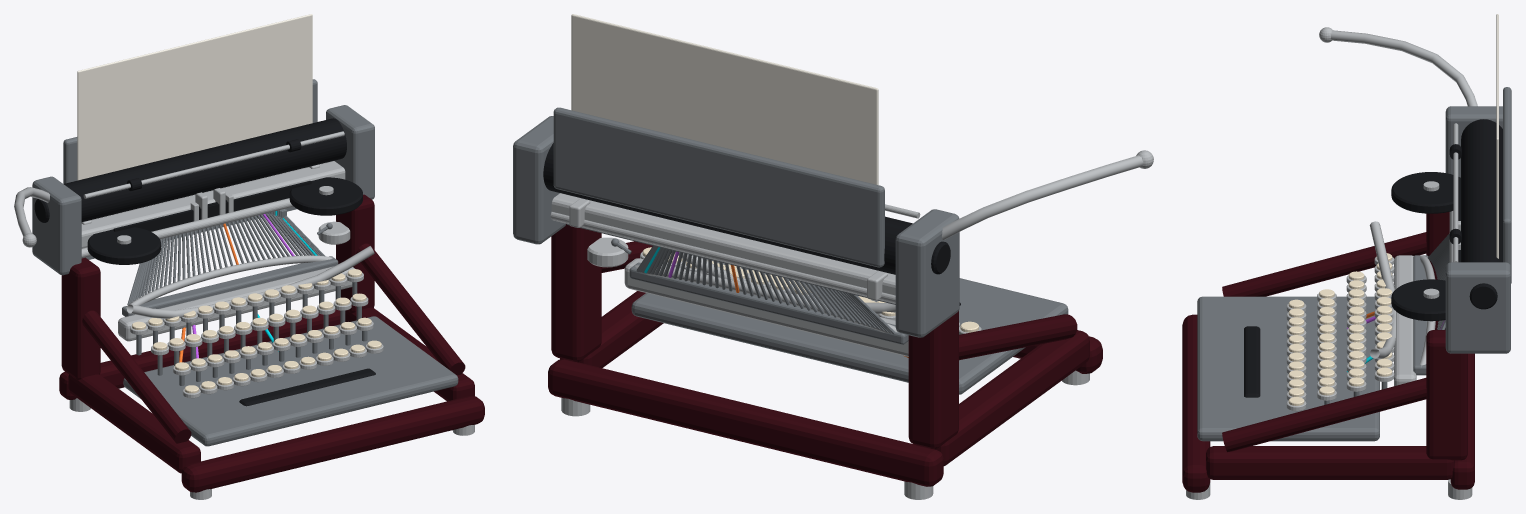
Rendered from typewriter-blockout.glb.
3 views of the same model, side by side, from view 1: azimuth 30°, elevation 25°; view 2: azimuth 150°, elevation 25°; view 3: azimuth 270°, elevation 25° (orthographic). The views are drawn at different scales.
Parts seen in each view (by area): view 1: PAPER_MESH, FRAME_KEYBED, PLATEN_MESH, FRAME_BASE_FRONT, FRAME_SIDE_LEFT, FRAME_CARRIAGE_TOWER_LEFT, CARRIAGE_END_LEFT, CARRIAGE_FRAME, FRAME_OPEN_RAIL_LEFT, FRAME_BASE_REAR, FRAME_OPEN_RAIL_RIGHT, FRAME_TYPEBASKET_SUPPORT (+16 smaller); view 2: PAPER_MESH, PAPER_GUIDE_REAR, FRAME_BASE_REAR, FRAME_KEYBED, CARRIAGE_FRAME, FRAME_SIDE_LEFT, CARRIAGE_END_LEFT, FRAME_CARRIAGE_TOWER_RIGHT, FRAME_CARRIAGE_TOWER_LEFT, CARRIAGE_END_RIGHT, FRAME_TYPEBASKET_SUPPORT, TYPEBASKET_COMB (+7 smaller); view 3: FRAME_KEYBED, FRAME_SIDE_RIGHT, PLATEN_MESH, CARRIAGE_END_RIGHT, FRAME_CARRIAGE_TOWER_RIGHT, FRAME_OPEN_RAIL_RIGHT, FRAME_OPEN_RAIL_LEFT, FRAME_BASE_FRONT, RIBBON_LEFT_SPOOL_MESH, FRAME_TYPEBASKET_SUPPORT, RIBBON_RIGHT_SPOOL_MESH, RETURN_LEVER_MESH (+11 smaller).
Part boxes in pixels (left/top/right/bottom): PAPER_MESH: left=77, top=14, right=312, bottom=180; FRAME_KEYBED: left=123, top=316, right=458, bottom=446; PLATEN_MESH: left=64, top=118, right=346, bottom=221; FRAME_BASE_FRONT: left=181, top=396, right=484, bottom=492; FRAME_SIDE_LEFT: left=68, top=374, right=200, bottom=473; FRAME_CARRIAGE_TOWER_LEFT: left=61, top=257, right=100, bottom=380; CARRIAGE_END_LEFT: left=32, top=176, right=81, bottom=275; CARRIAGE_FRAME: left=81, top=161, right=345, bottom=248; FRAME_OPEN_RAIL_LEFT: left=82, top=310, right=191, bottom=443; FRAME_BASE_REAR: left=59, top=309, right=340, bottom=399; FRAME_OPEN_RAIL_RIGHT: left=356, top=243, right=465, bottom=375; FRAME_TYPEBASKET_SUPPORT: left=118, top=266, right=354, bottom=341; PAPER_MESH: left=571, top=14, right=878, bottom=185; PAPER_GUIDE_REAR: left=553, top=107, right=884, bottom=267; FRAME_BASE_REAR: left=548, top=359, right=943, bottom=486; FRAME_KEYBED: left=631, top=258, right=1068, bottom=394; CARRIAGE_FRAME: left=551, top=193, right=895, bottom=303; FRAME_SIDE_LEFT: left=934, top=330, right=1089, bottom=465; CARRIAGE_END_LEFT: left=895, top=209, right=959, bottom=337; FRAME_CARRIAGE_TOWER_RIGHT: left=551, top=224, right=601, bottom=361; FRAME_CARRIAGE_TOWER_LEFT: left=908, top=311, right=958, bottom=448; CARRIAGE_END_RIGHT: left=513, top=116, right=565, bottom=244; FRAME_TYPEBASKET_SUPPORT: left=624, top=258, right=908, bottom=356; TYPEBASKET_COMB: left=629, top=262, right=908, bottom=344; FRAME_KEYBED: left=1197, top=296, right=1379, bottom=441; FRAME_SIDE_RIGHT: left=1206, top=446, right=1454, bottom=479; PLATEN_MESH: left=1461, top=119, right=1502, bottom=262; CARRIAGE_END_RIGHT: left=1445, top=262, right=1510, bottom=353; FRAME_CARRIAGE_TOWER_RIGHT: left=1426, top=330, right=1467, bottom=460; FRAME_OPEN_RAIL_RIGHT: left=1222, top=378, right=1426, bottom=452; FRAME_OPEN_RAIL_LEFT: left=1222, top=232, right=1426, bottom=296; FRAME_BASE_FRONT: left=1182, top=314, right=1210, bottom=492; RIBBON_LEFT_SPOOL_MESH: left=1391, top=172, right=1460, bottom=213; FRAME_TYPEBASKET_SUPPORT: left=1394, top=255, right=1416, bottom=386; RIBBON_RIGHT_SPOOL_MESH: left=1391, top=279, right=1445, bottom=321; RETURN_LEVER_MESH: left=1330, top=30, right=1477, bottom=106.
Size of the model in its own units: 0.594 by 0.442 by 0.378.
